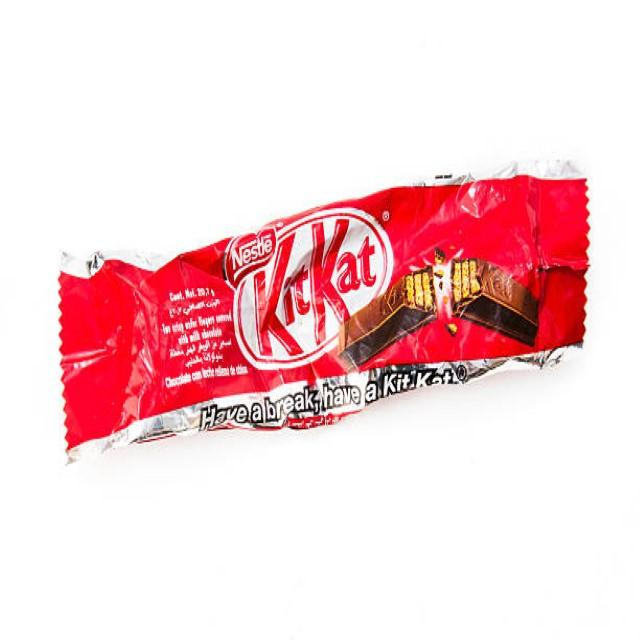kitkat_chocolate: (48, 170, 587, 407)
